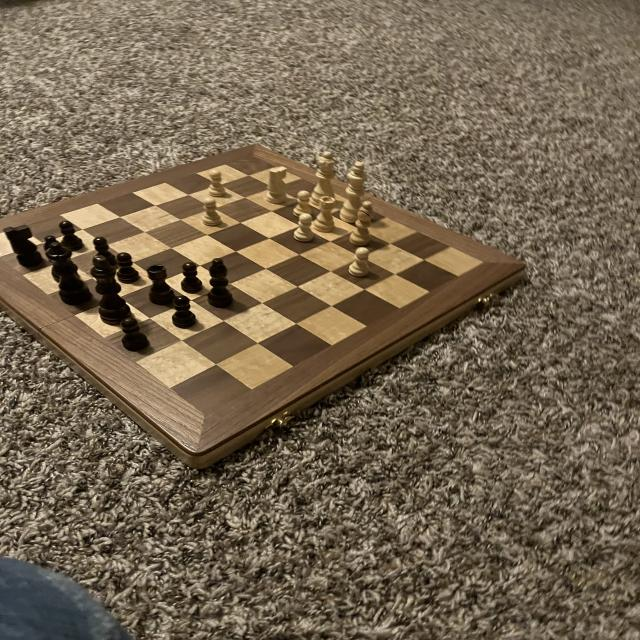bishop: (42, 231, 78, 283), (204, 257, 238, 311)
black-bishop: (86, 254, 138, 326)
black-king: (5, 222, 43, 269)
black-knight: (169, 291, 200, 333), (118, 316, 152, 353), (56, 218, 87, 253), (114, 251, 142, 286), (90, 234, 117, 268), (178, 260, 204, 295)
black-pawn: (44, 240, 94, 310)
black-queen: (148, 262, 174, 306)
black-rook: (348, 200, 375, 247)
white-bishop: (340, 162, 369, 226)
white-king: (266, 165, 291, 207)
white-knight: (346, 246, 372, 278), (292, 213, 318, 245), (290, 188, 316, 218), (200, 197, 224, 227), (206, 168, 228, 198)
white-pawn: (308, 150, 341, 210)
white-queen: (314, 194, 339, 235)
